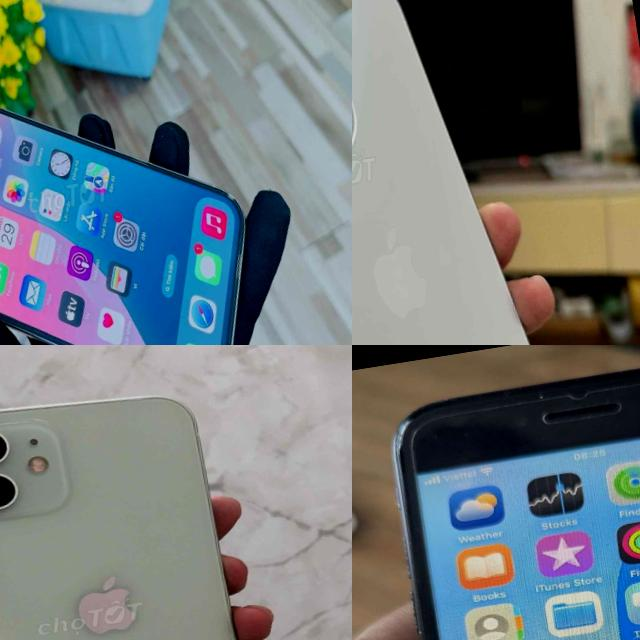gen_12_13: (0, 34, 278, 345), (352, 0, 584, 345), (0, 377, 276, 640)
gen_7_8: (381, 345, 640, 640)
